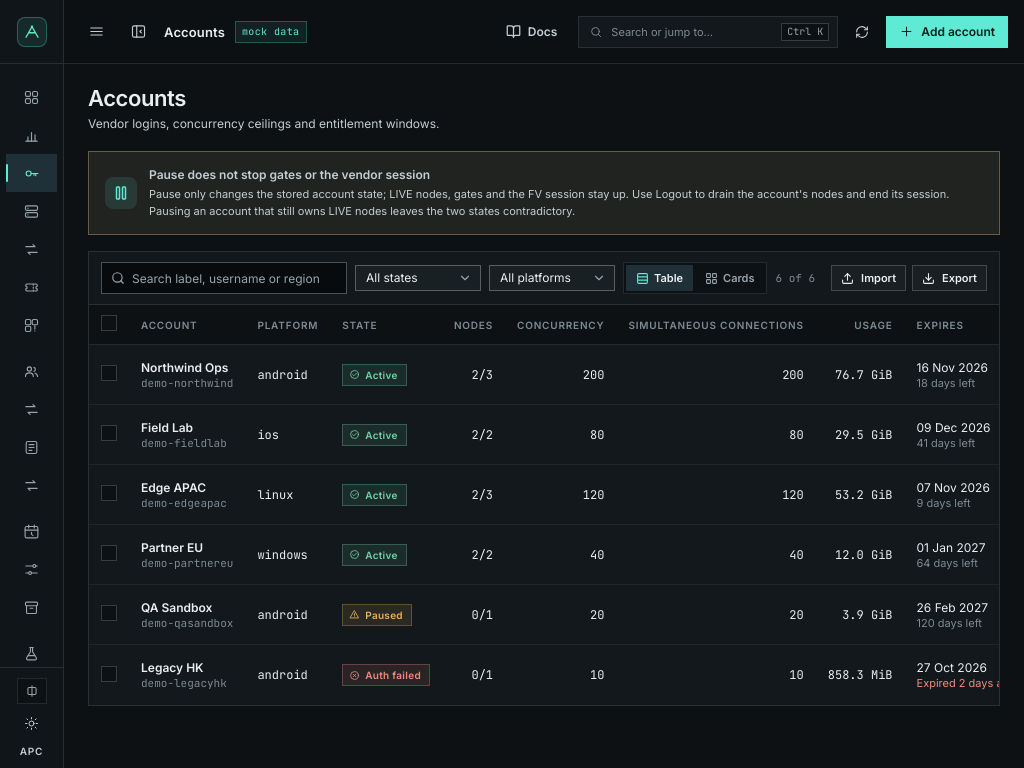
account export dialog › defaults to all accounts, disables encrypted export in mock and gates plaintext
The image size is (1024, 768).
Expected: the heading "Accounts" is shown, x1=88 y1=84 x2=186 y2=112
Expected: the table named "Vendor accounts" is shown, x1=89 y1=305 x2=999 y2=705
Click the button "Export" at [950, 278], box x1=912 y1=265 x2=987 y2=291
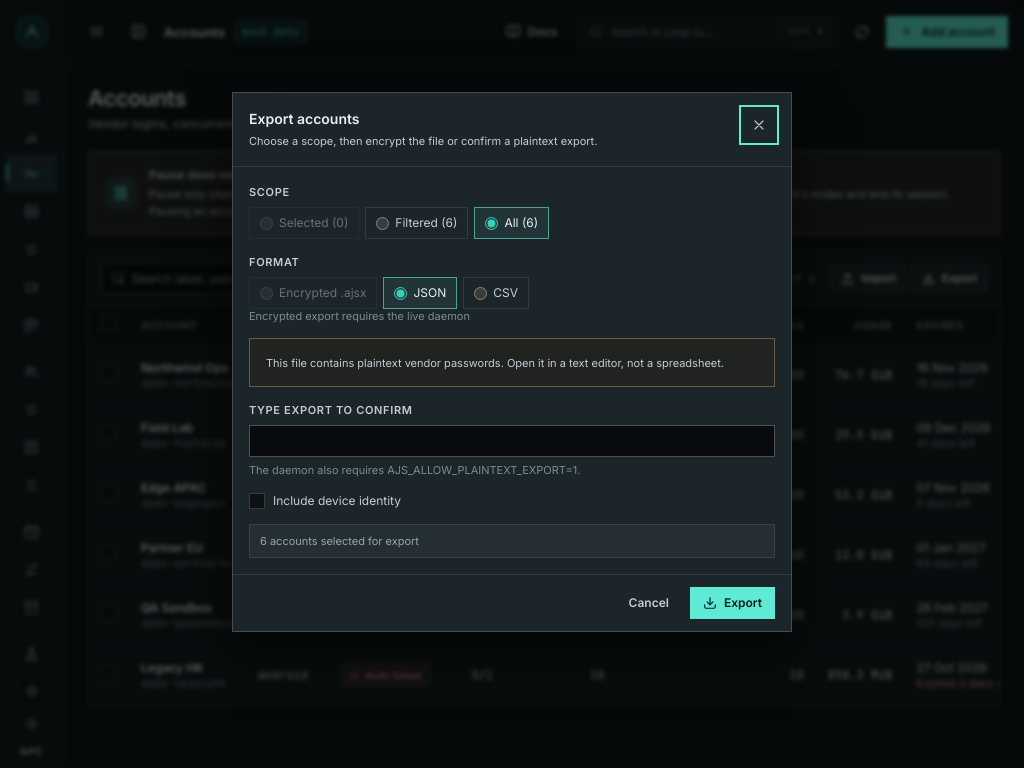
Expected: the radio button labelled "All (6)" is checked, x1=485 y1=217 x2=498 y2=230
Expected: the radio button labelled "Selected (0)" is disabled, x1=260 y1=217 x2=273 y2=230
Expected: the radio button labelled "Encrypted .ajsx" is disabled, x1=260 y1=287 x2=273 y2=300
Type "EXPORT" into the field labelled "Type EXPORT to confirm" at [512, 441], box x1=249 y1=425 x2=775 y2=457
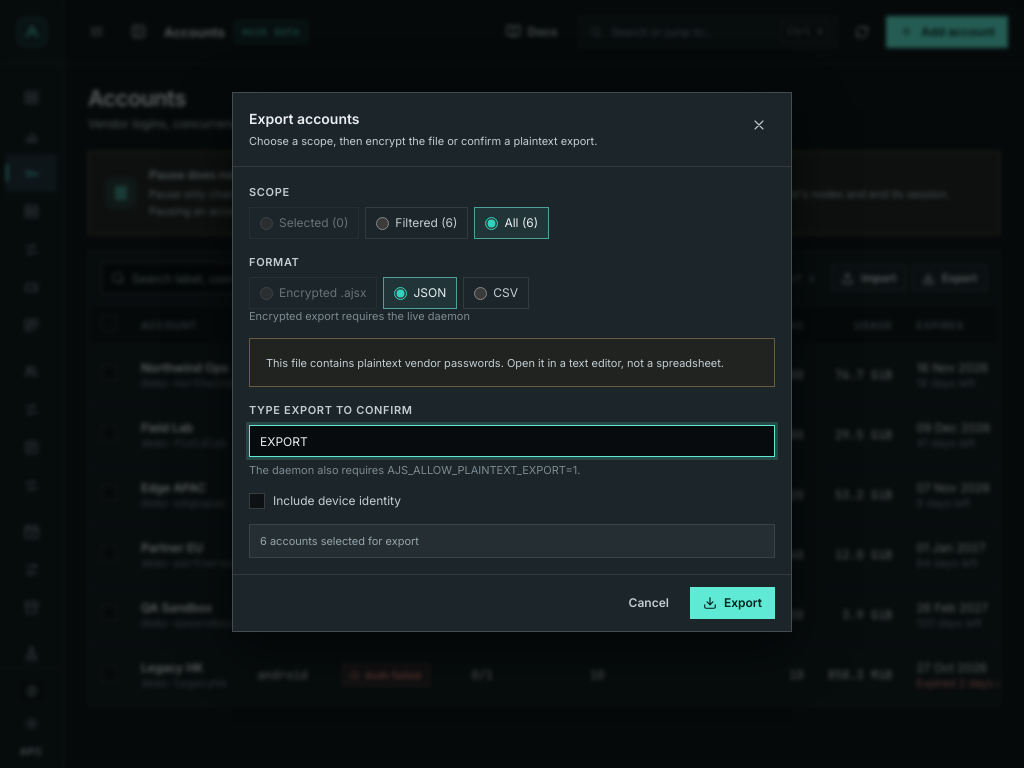
Click the button "Export" at [732, 603], box x1=690 y1=587 x2=775 y2=619
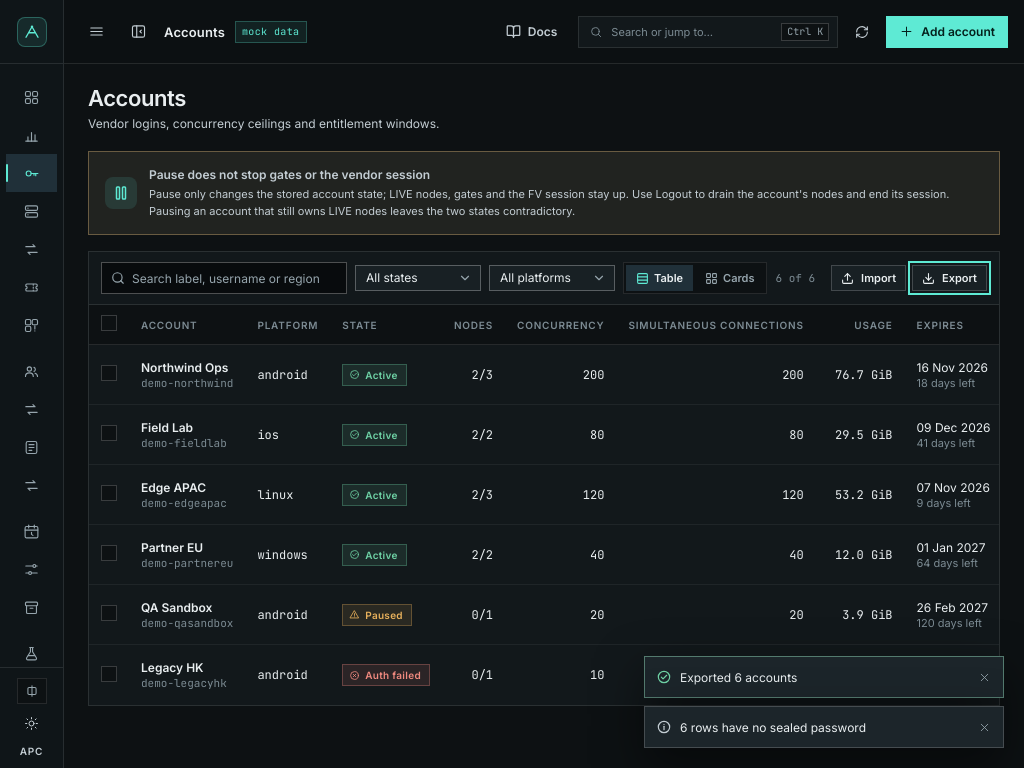
Expected: the text "Exported 6 accounts" is shown, x1=680 y1=670 x2=797 y2=684
Expected: the heading "Export accounts" is gone
